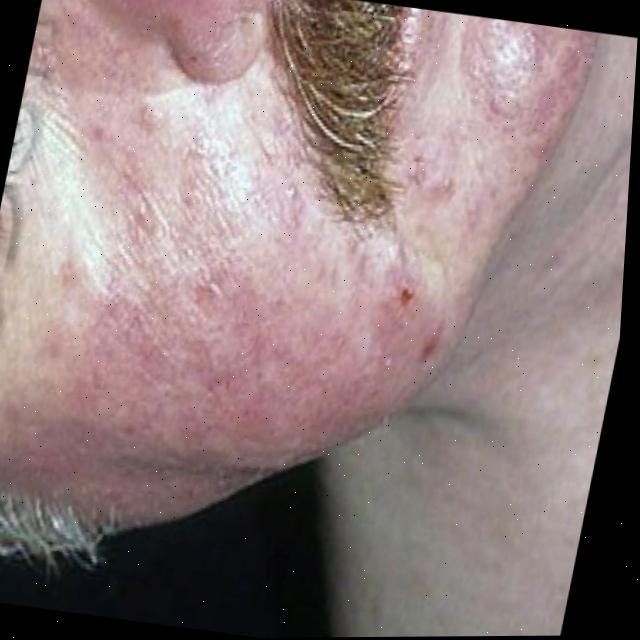Rosacea: (66, 242, 449, 507), (445, 22, 591, 165), (85, 0, 194, 44)
